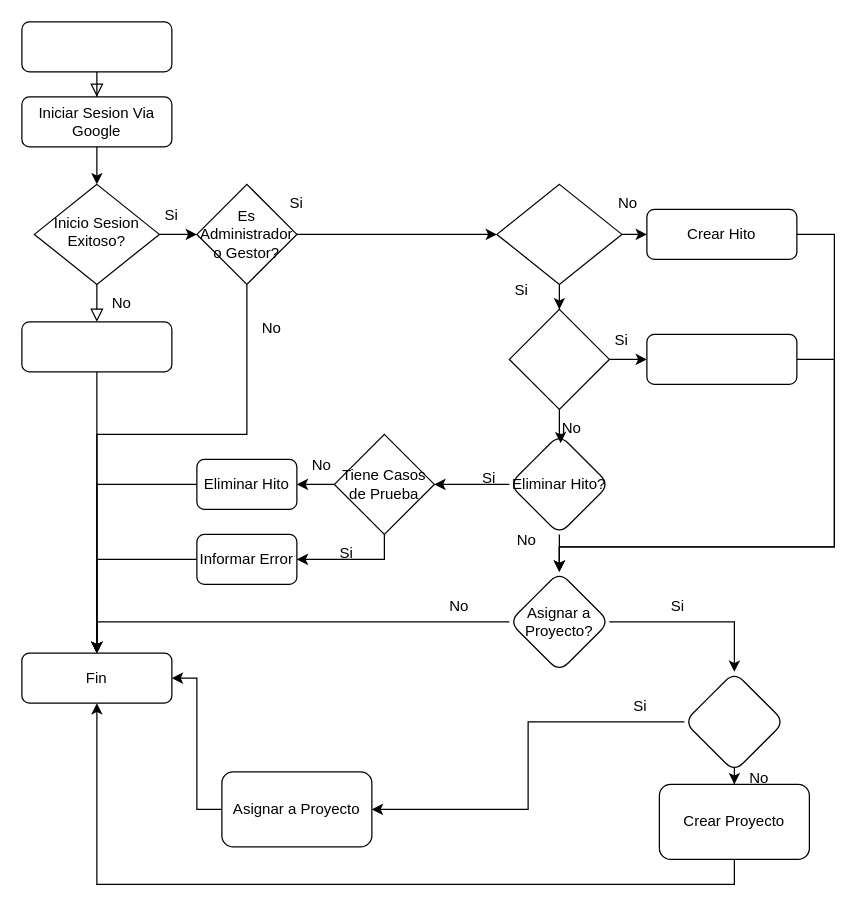
The diagram is 866 pixels wide and 916 high, and some of its shapes have lost their labels. Each missing label, with the centre of its shape:
"El Hito existe?" belongs at [559,233].
"El Proyecto Existe?" belongs at [733,721].
"Inicio" belongs at [96,46].
"Modifica r Hito" belongs at [721,358].
"Modificar Hito?" belongs at [558,358].
"Visualiza error de logueo" belongs at [96,346].
